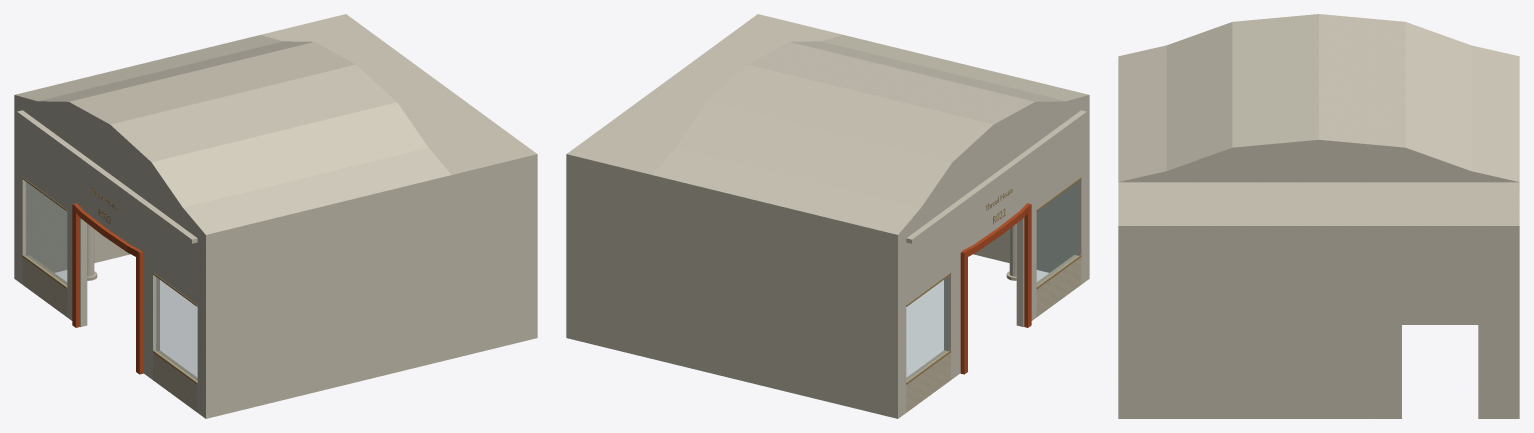
Rendered from SHOP_D09_P72_A288__shell.glb.
3 renders of one model, left to right at view 1: azimuth 30°, elevation 25°; view 2: azimuth 150°, elevation 25°; view 3: azimuth 270°, elevation 25°, orthographic. The views are drawn at different scales.
Visible parts, largest first — view 1: SHOP_D09_P72_A288__shell__ivory_enamel, SHOP_D09_P72_A288__shell__shop_glass, SHOP_D09_P72_A288__shell__warm_stone, SHOP_D09_P72_A288__shell__retail_terracotta_enamel, SHOP_D09_P72_A288__shell__champagne_metal; view 2: SHOP_D09_P72_A288__shell__ivory_enamel, SHOP_D09_P72_A288__shell__shop_glass, SHOP_D09_P72_A288__shell__warm_stone, SHOP_D09_P72_A288__shell__retail_terracotta_enamel, SHOP_D09_P72_A288__shell__champagne_metal; view 3: SHOP_D09_P72_A288__shell__ivory_enamel.
Boxes of the visible parts, x1,y1,x2,y2 form: SHOP_D09_P72_A288__shell__ivory_enamel: [14, 14, 537, 418]; SHOP_D09_P72_A288__shell__shop_glass: [26, 182, 197, 380]; SHOP_D09_P72_A288__shell__warm_stone: [22, 255, 197, 412]; SHOP_D09_P72_A288__shell__retail_terracotta_enamel: [72, 203, 143, 374]; SHOP_D09_P72_A288__shell__champagne_metal: [22, 177, 197, 384]; SHOP_D09_P72_A288__shell__ivory_enamel: [566, 14, 1089, 418]; SHOP_D09_P72_A288__shell__shop_glass: [906, 182, 1077, 380]; SHOP_D09_P72_A288__shell__warm_stone: [906, 255, 1081, 412]; SHOP_D09_P72_A288__shell__retail_terracotta_enamel: [960, 203, 1031, 374]; SHOP_D09_P72_A288__shell__champagne_metal: [906, 177, 1081, 384]; SHOP_D09_P72_A288__shell__ivory_enamel: [1118, 14, 1519, 418].
Size of the model in its own units: 11.86 by 7.5 by 11.6.
Materials: 6 (4 with a texture image).
